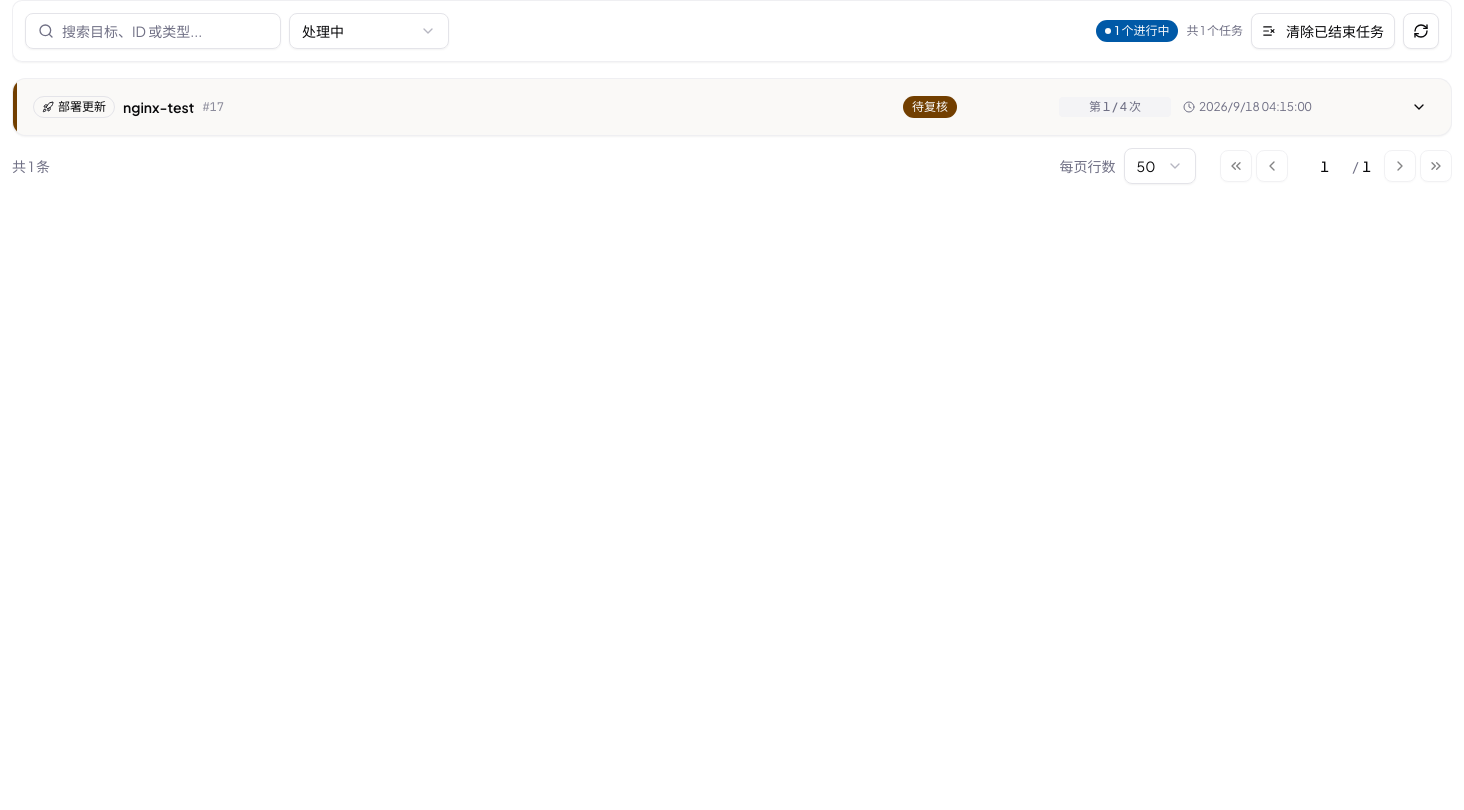
Test: persistent task queue › loads and enables the deployment plan for an unmanaged task
Expected: the text "nginx-test" is shown, left=123, top=97, right=194, bottom=117
What coordinates should you click on to do the following:
click the button named "任务 #17 详情"
I would click on:
 (1419, 107)
Its box is left=1403, top=91, right=1435, bottom=123.
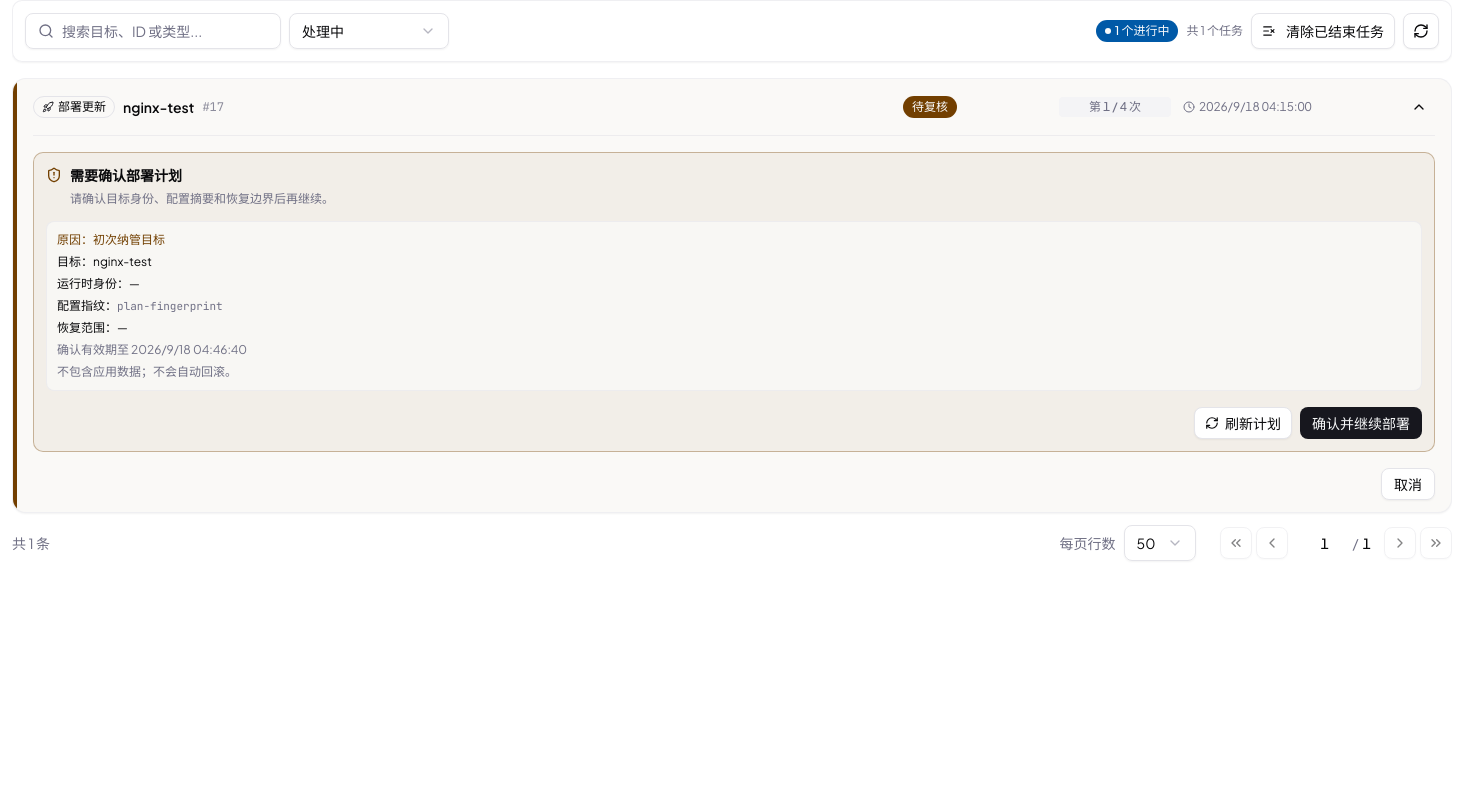
Expected: the text "需要确认部署计划" is shown, left=70, top=166, right=182, bottom=184
Expected: the button "刷新计划" is enabled, left=1194, top=406, right=1292, bottom=438
Expected: the button "确认并继续部署" is enabled, left=1300, top=406, right=1422, bottom=438
